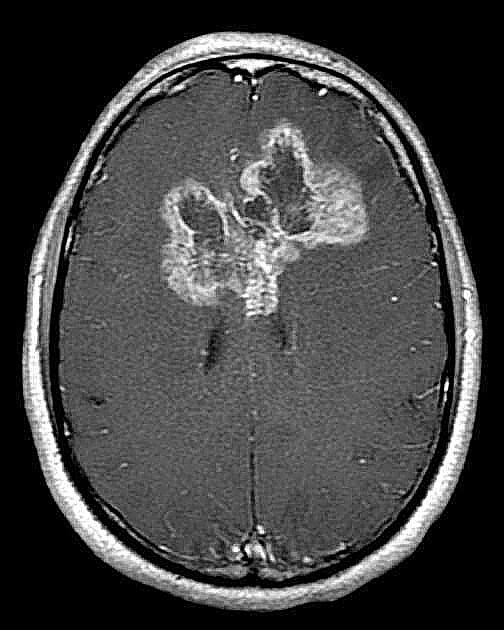Tumor: (155, 116, 368, 317)
